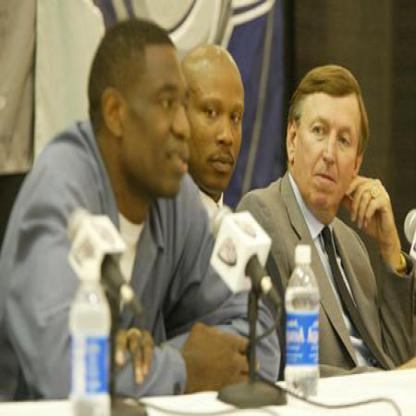face: (124, 25, 201, 205), (297, 68, 364, 211), (183, 49, 248, 196)
